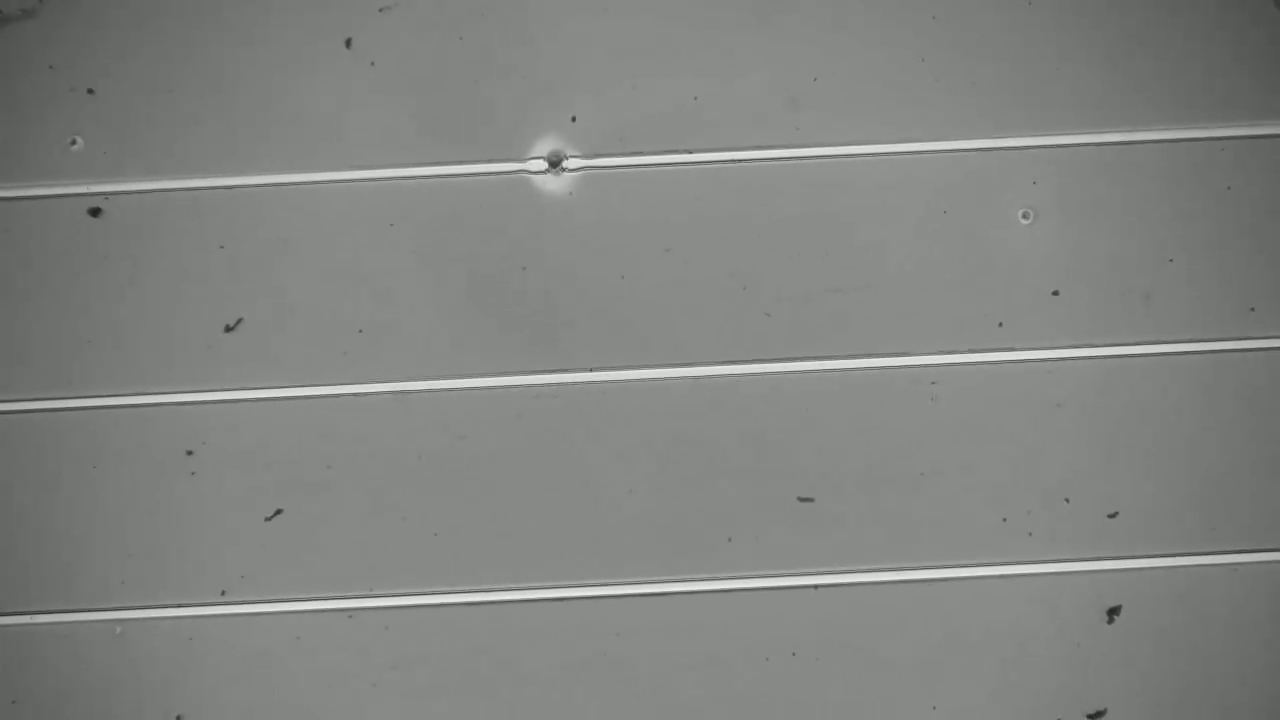stains_enbedded: (536, 138, 583, 187)
